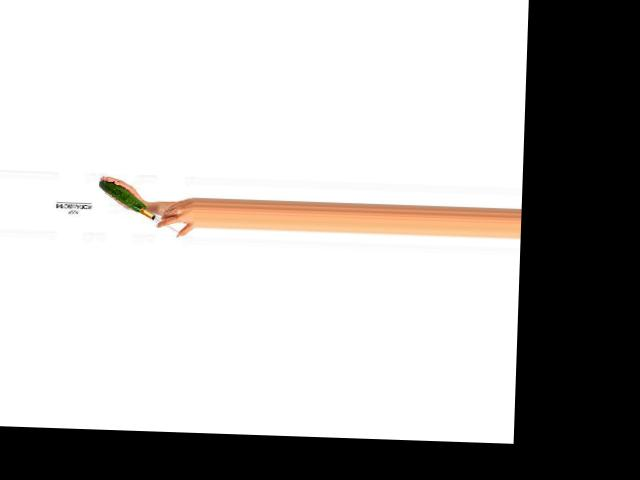cucumber: (99, 180, 146, 212)
